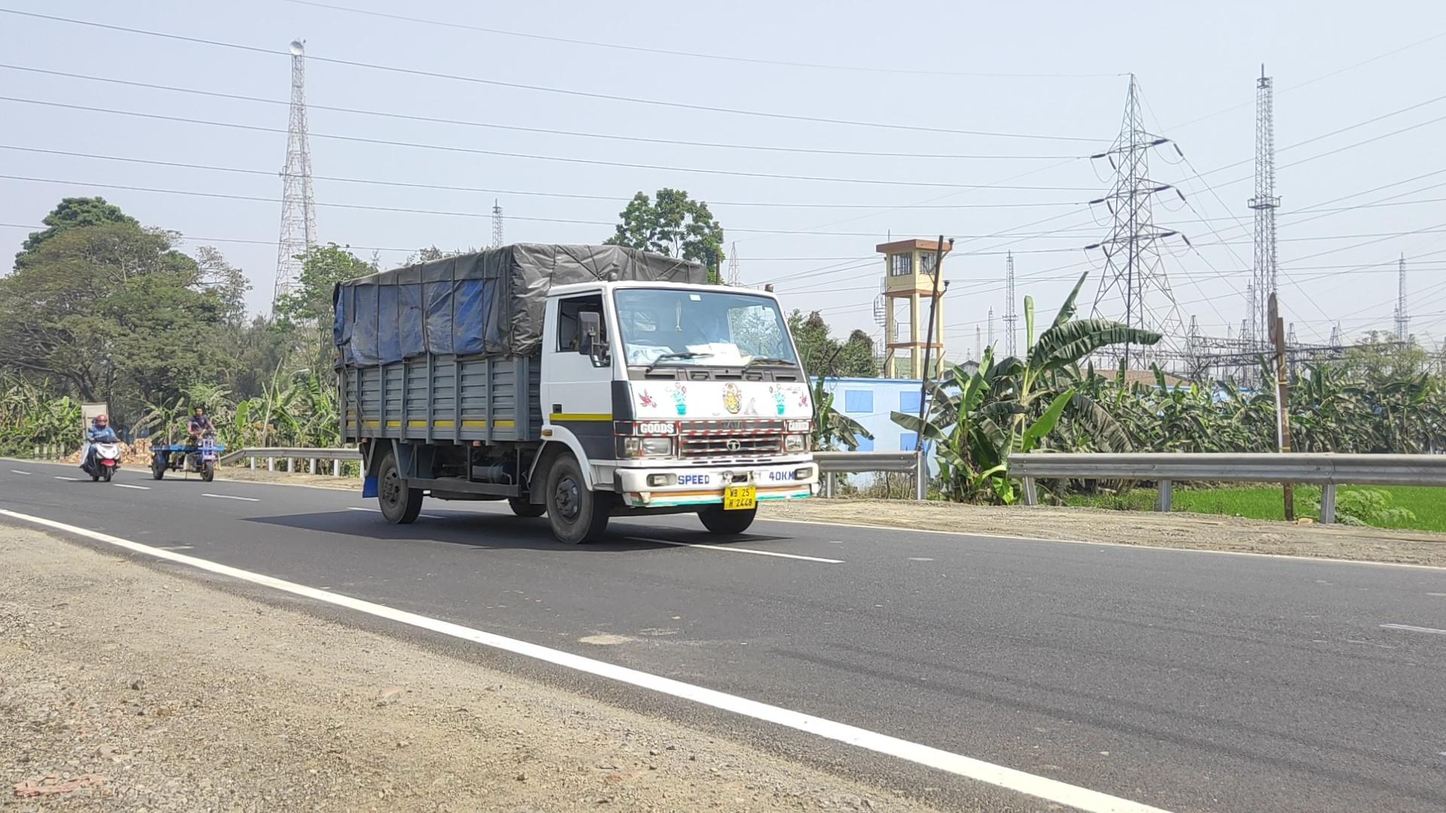bike: (81, 414, 124, 482)
truck: (335, 242, 822, 546)
